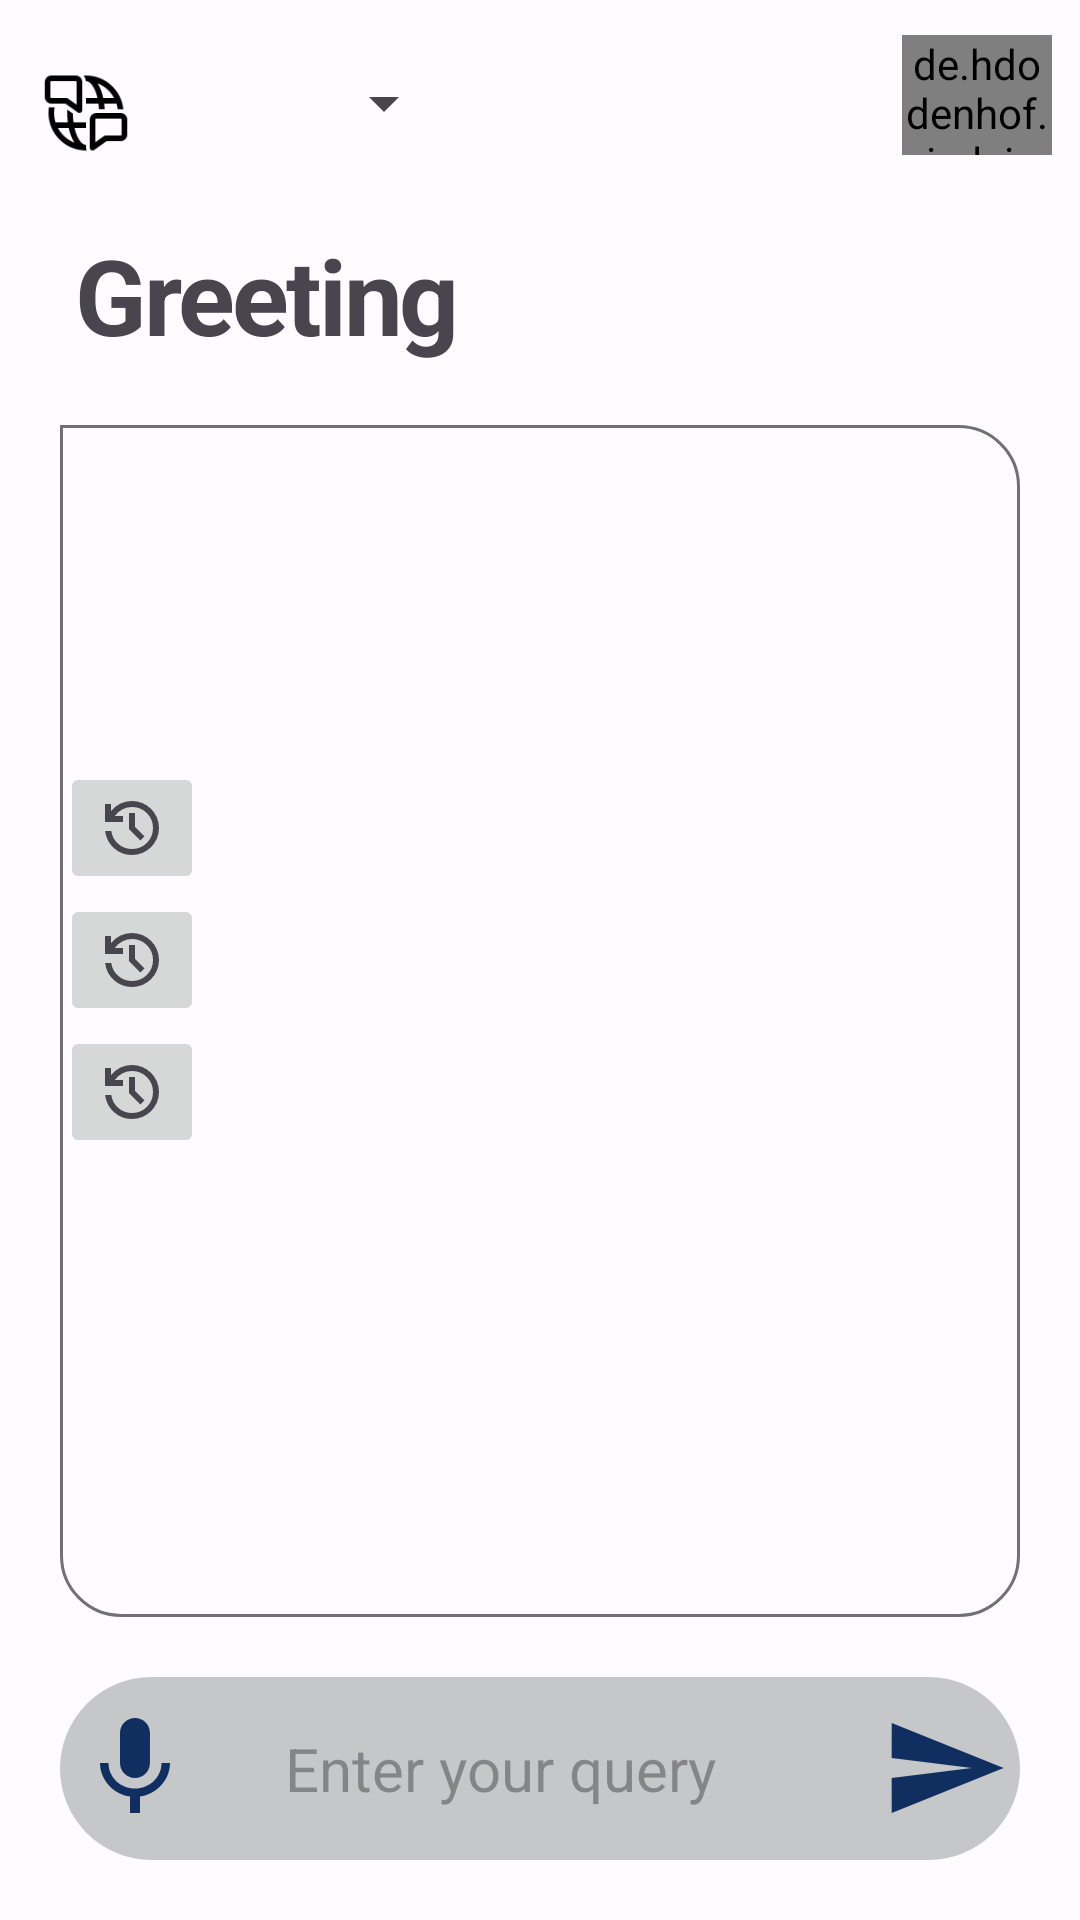

Named icons in this screenshot (1080px x 1920px) and their bounding boxes, (x1, y1, x2, y2):
history: (72, 780, 192, 876), (72, 912, 192, 1008), (72, 1044, 192, 1140)
language symbol: (44, 75, 128, 151)
mic: (100, 1718, 170, 1813)
send: (891, 1723, 1003, 1813)
